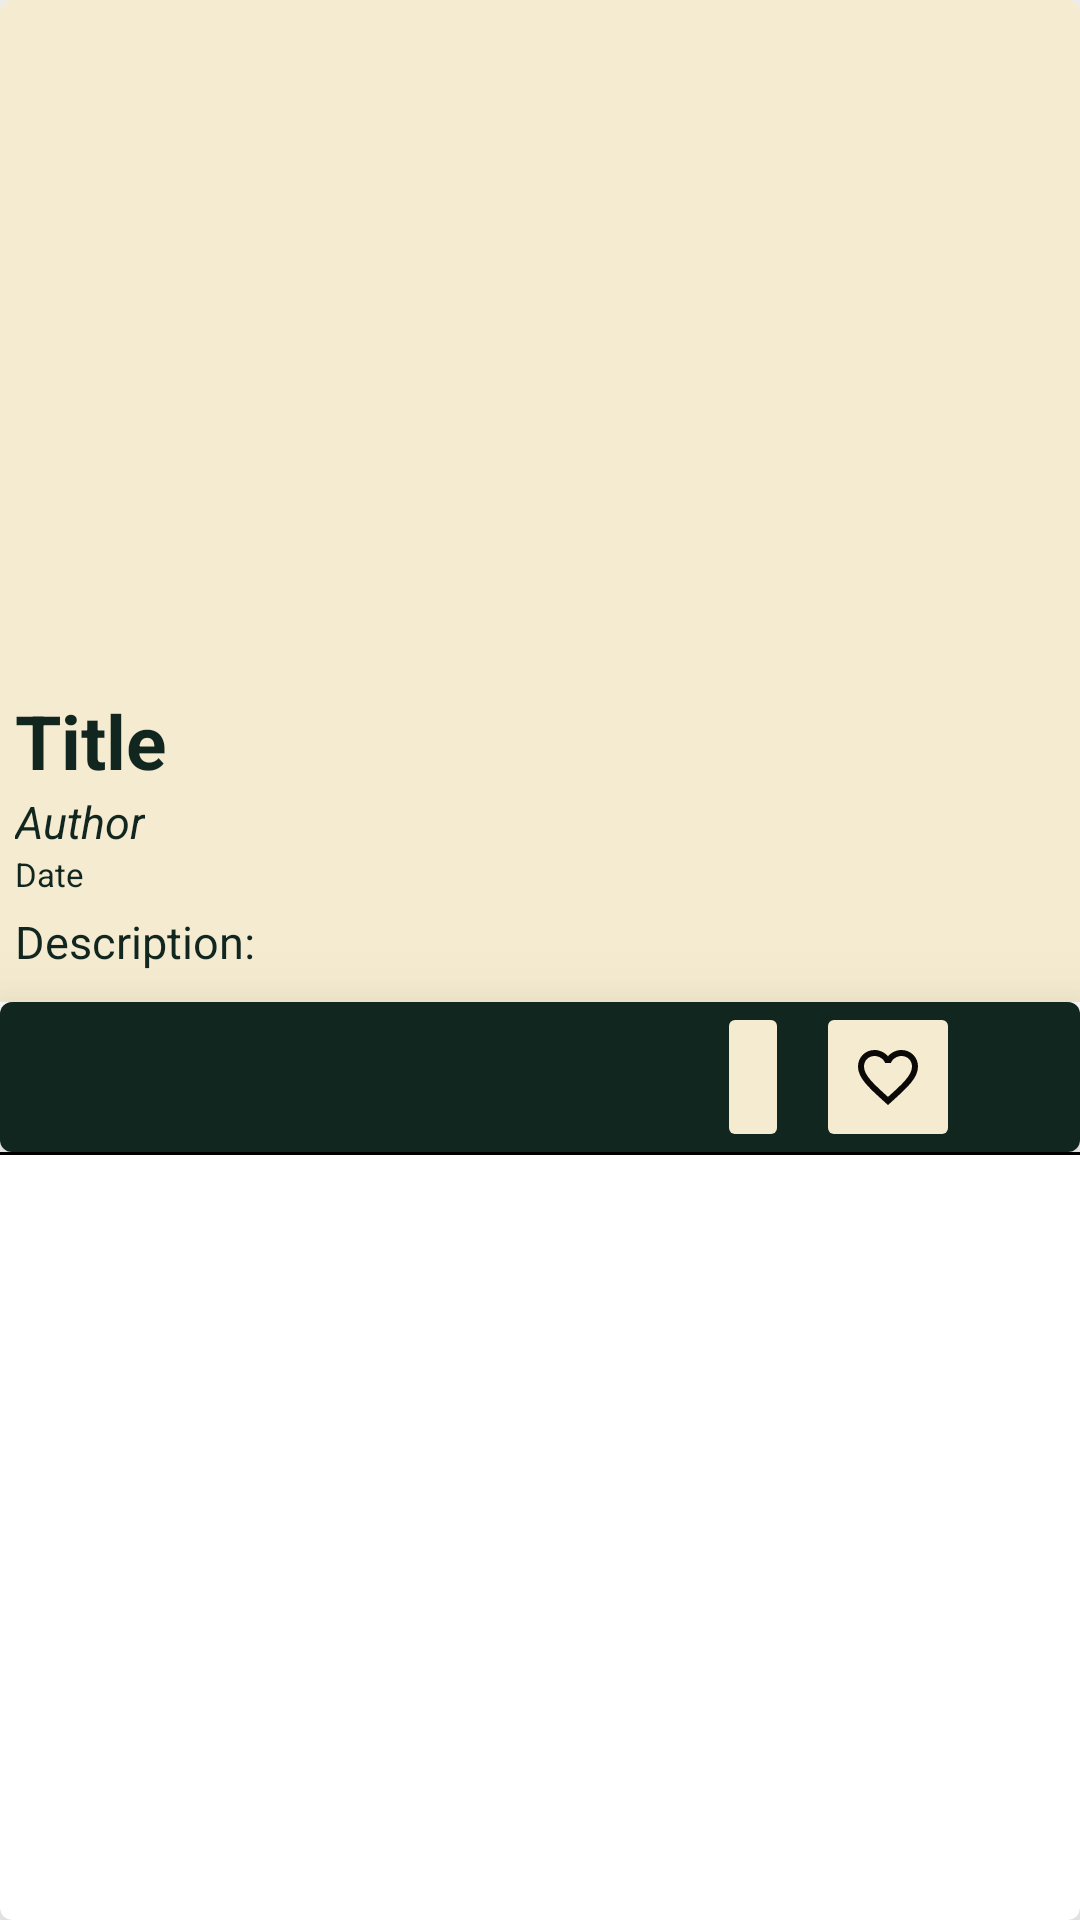

Where to tap for icons on this 1080px x 1920px app screen, as (x=x, y=y):
Favourites: (x=888, y=1077)
